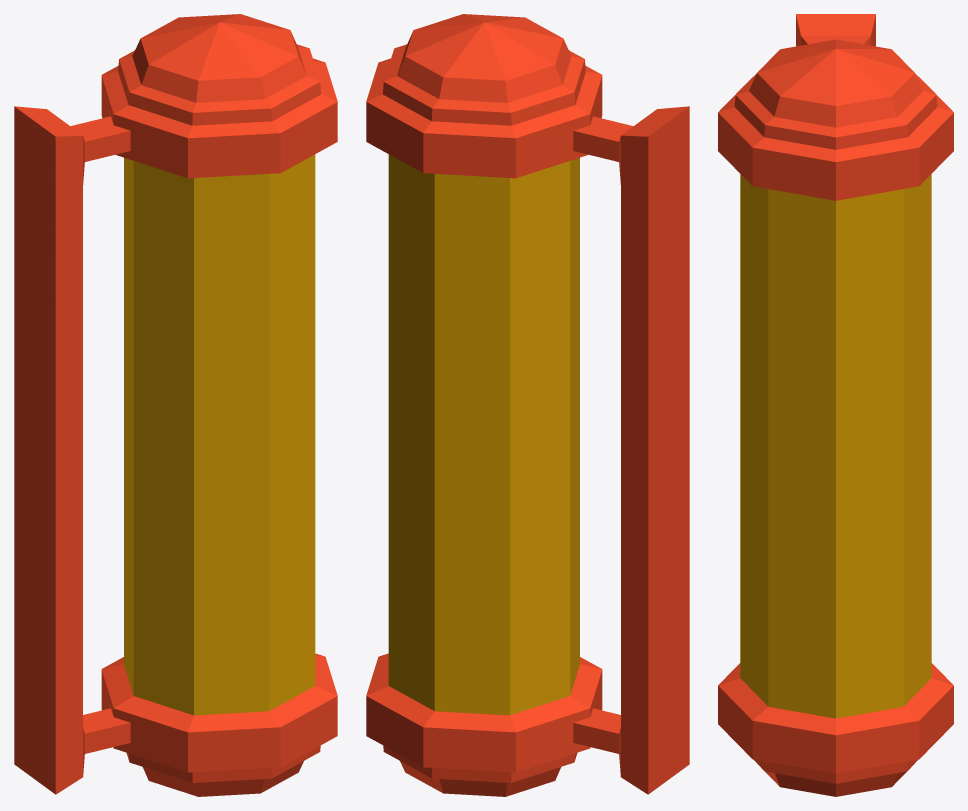
Rendered from SM_Barber_City.fbx.
3 renders of one model, left to right at view 1: azimuth 30°, elevation 25°; view 2: azimuth 150°, elevation 25°; view 3: azimuth 270°, elevation 25°, orthographic. The views are drawn at different scales.
Parts seen in each view (by area): view 1: SM_Barber_City; view 2: SM_Barber_City; view 3: SM_Barber_City.
Boxes of the visible parts, box(x1,y1,x2,y2) form: SM_Barber_City: box(14, 14, 337, 796); SM_Barber_City: box(366, 14, 689, 796); SM_Barber_City: box(718, 14, 953, 796).
Bounding box in the file's own units: 0.3893 × 0.9806 × 0.2838.
